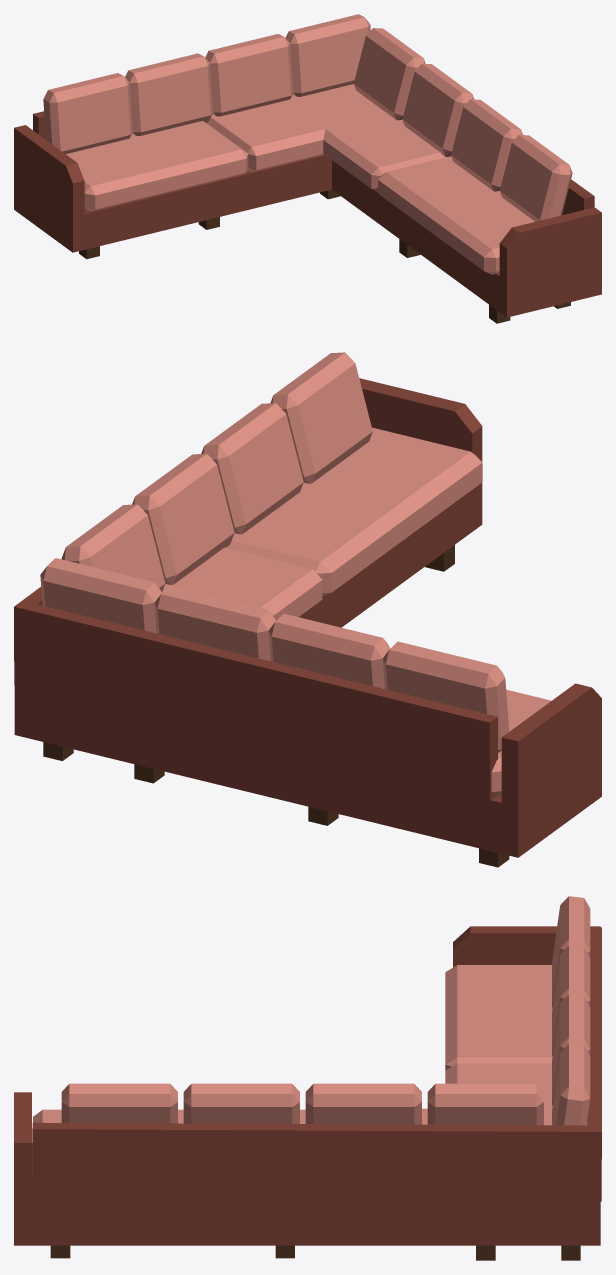
File: l_shaped_couch.glb
The picture shows the model from 3 angles, top to bottom: view 1: azimuth 30°, elevation 25°; view 2: azimuth 150°, elevation 25°; view 3: azimuth 270°, elevation 25°; orthographic projection. The views are drawn at different scales.
Parts seen in each view (by area): view 1: L_Shaped_Couch; view 2: L_Shaped_Couch; view 3: L_Shaped_Couch.
Part boxes in pixels (<box>): L_Shaped_Couch: <box>14,14,601,323</box>; L_Shaped_Couch: <box>14,352,601,867</box>; L_Shaped_Couch: <box>14,896,601,1260</box>.
Size of the model in its own units: 3.43 by 1.27 by 3.93.
1 material, 1 textured.
